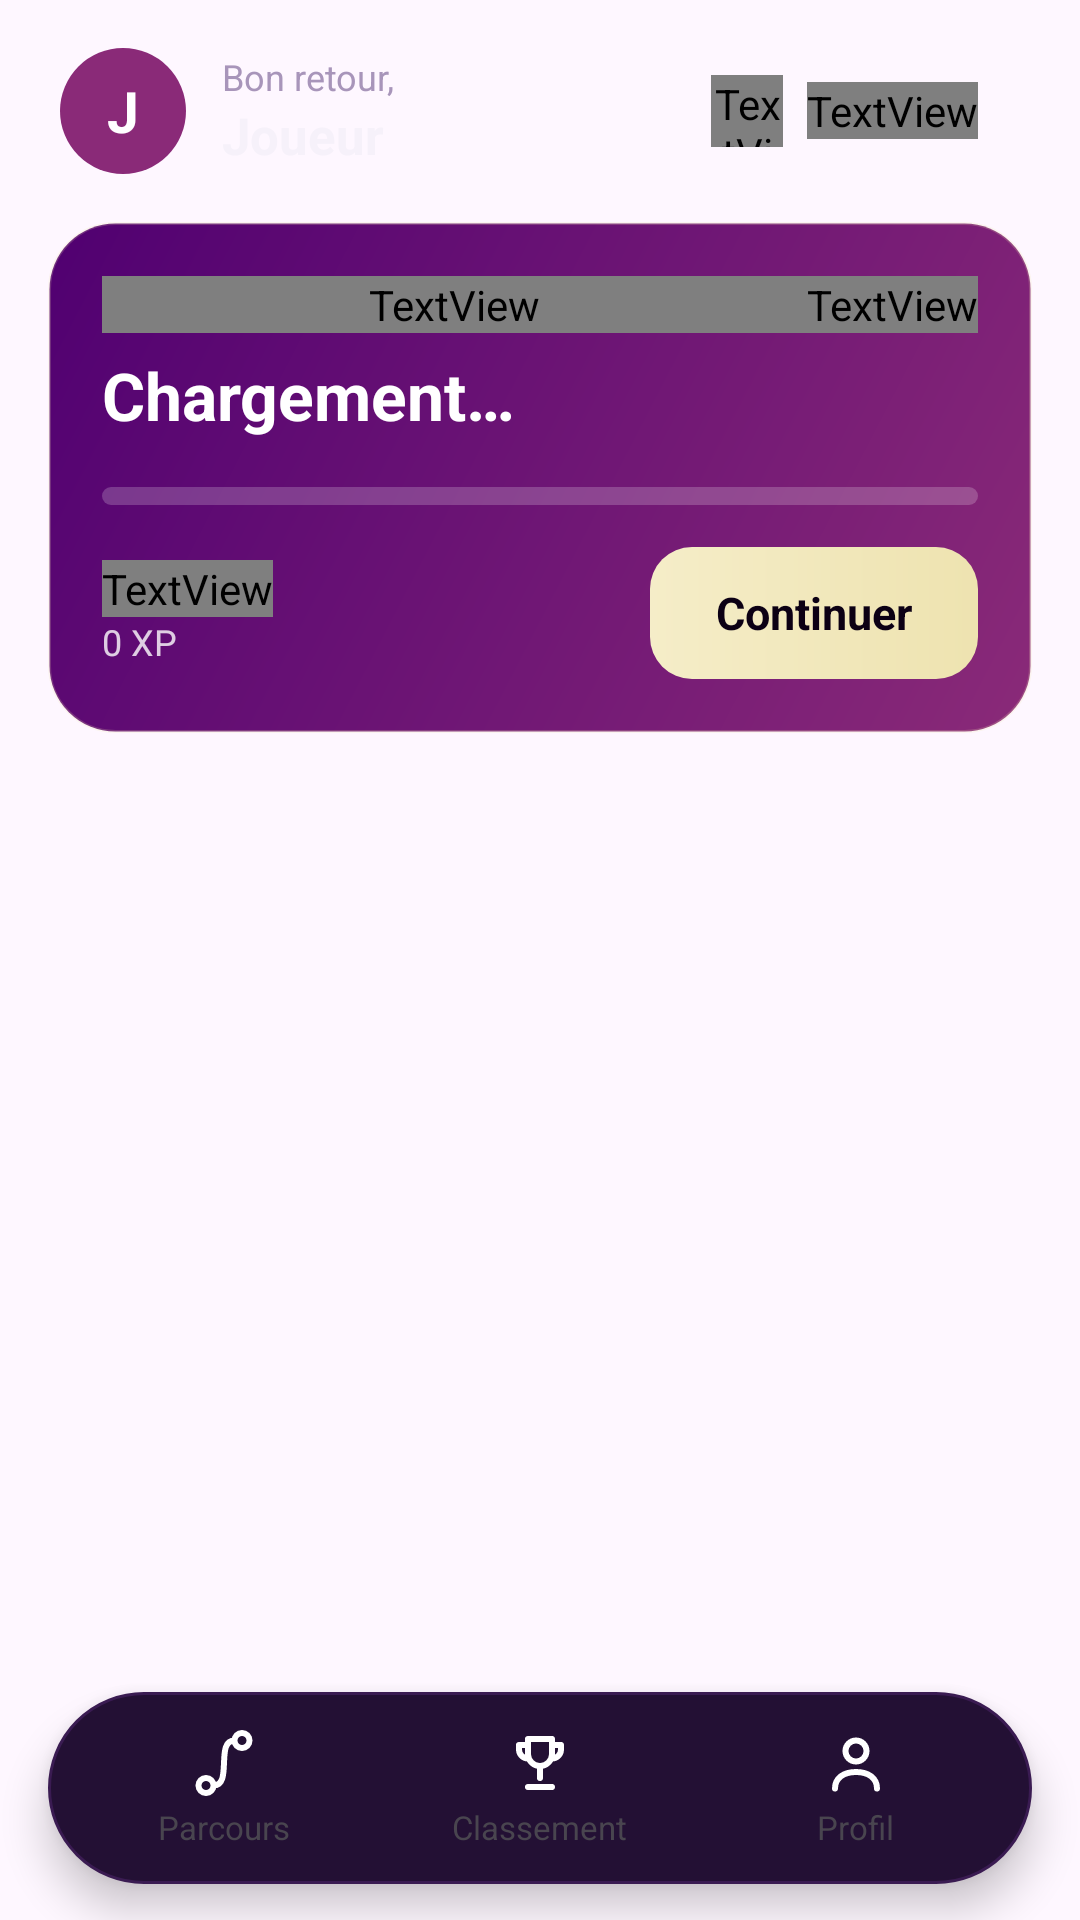

Icons on this 1080 x 1920 Android screen, each with its box as (x1, y1, x2, y2):
trophy: (516, 1736, 564, 1790)
